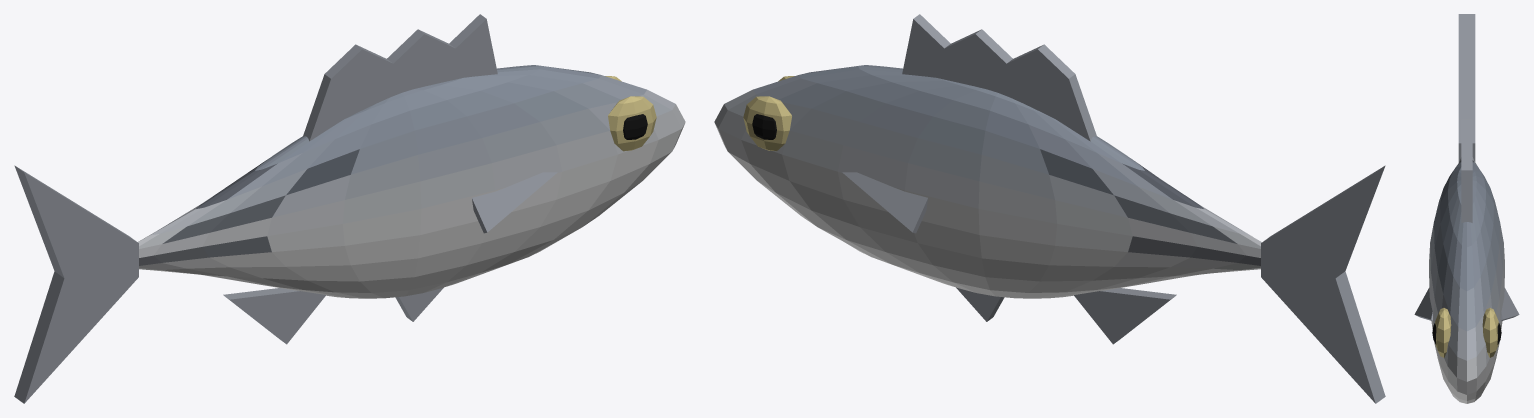
Rendered from WhiteBass.glb.
The picture shows the model from 3 angles, left to right: view 1: azimuth 30°, elevation 25°; view 2: azimuth 150°, elevation 25°; view 3: azimuth 270°, elevation 25°; orthographic projection. The views are drawn at different scales.
Visible parts, largest first — view 1: WhiteBass; view 2: WhiteBass; view 3: WhiteBass.
Part boxes in pixels (x1,y1,x2,y2): WhiteBass: (14, 14, 685, 403); WhiteBass: (714, 14, 1385, 403); WhiteBass: (1414, 14, 1519, 403).
Bounding box in the file's own units: 2.9 × 1.19 × 0.4748.
